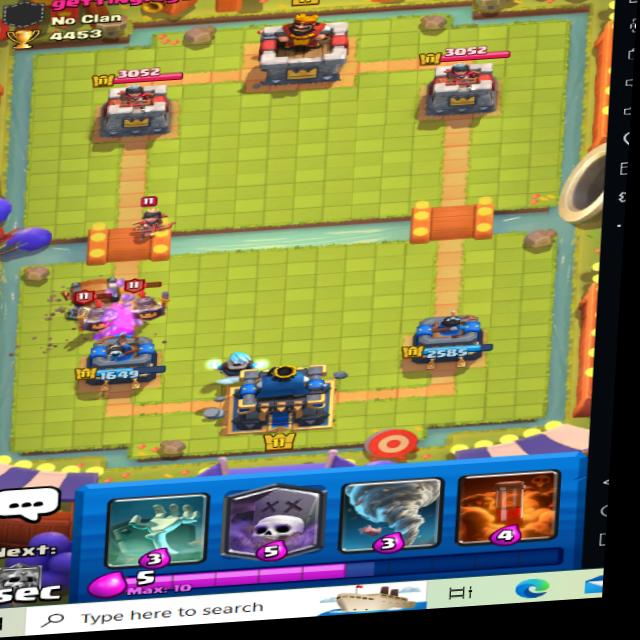guards: (61, 288, 120, 337), (126, 277, 180, 325)
princess: (120, 190, 183, 246)
